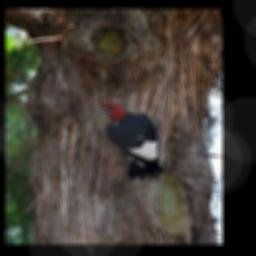Woodpecker: (90, 99, 170, 180)
